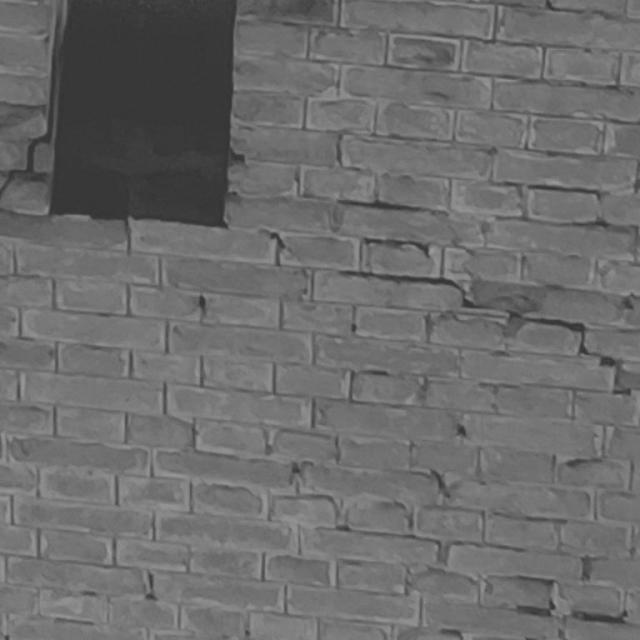crack: (338, 270, 632, 396), (1, 58, 55, 194)
